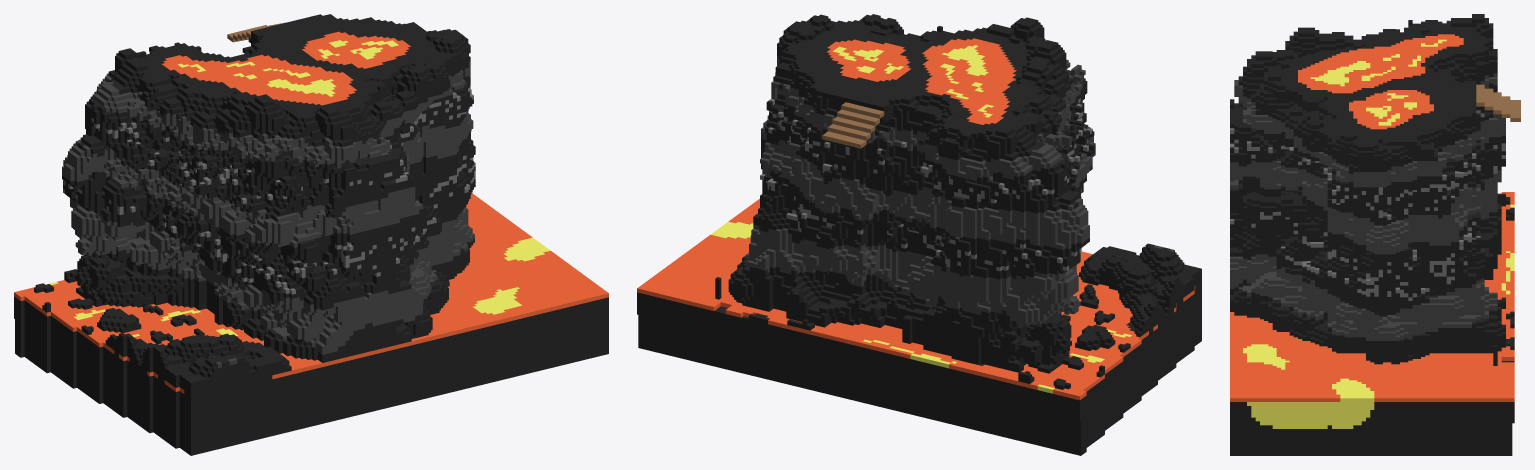
The model's file is Lava_stuff-43.obj.
3 views of the same model, side by side, from view 1: azimuth 30°, elevation 25°; view 2: azimuth 150°, elevation 25°; view 3: azimuth 270°, elevation 25° (orthographic). The views are drawn at different scales.
Size of the model in its own units: 23 by 14.8 by 13.7.
Materials: 1 (1 with a texture image).
